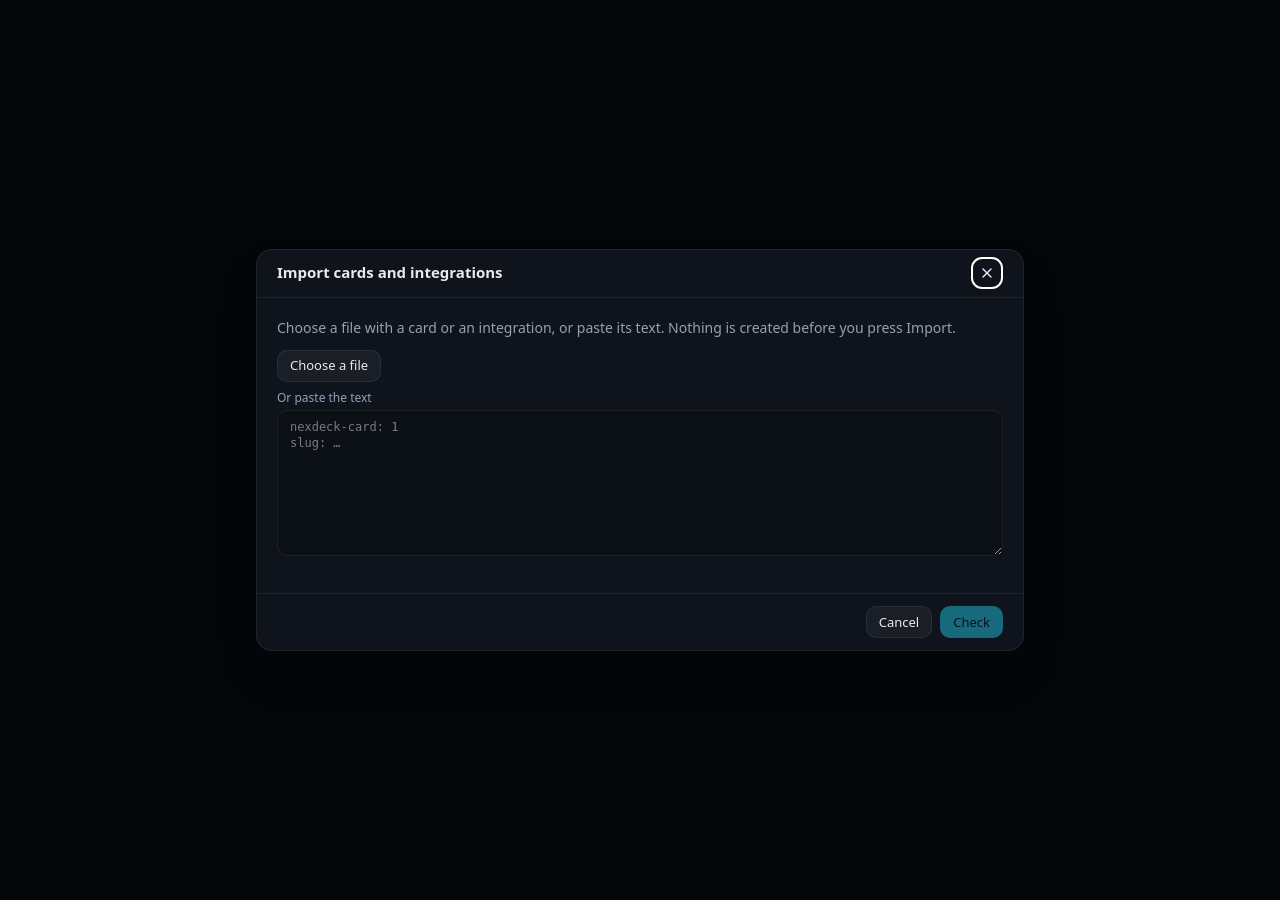
Test case: an integration that is not there › karten12 ac4: names the kinds that are neither in the file nor here
Click the text box labelled "Or paste the text" at (640, 483), box [277,410,1003,556]
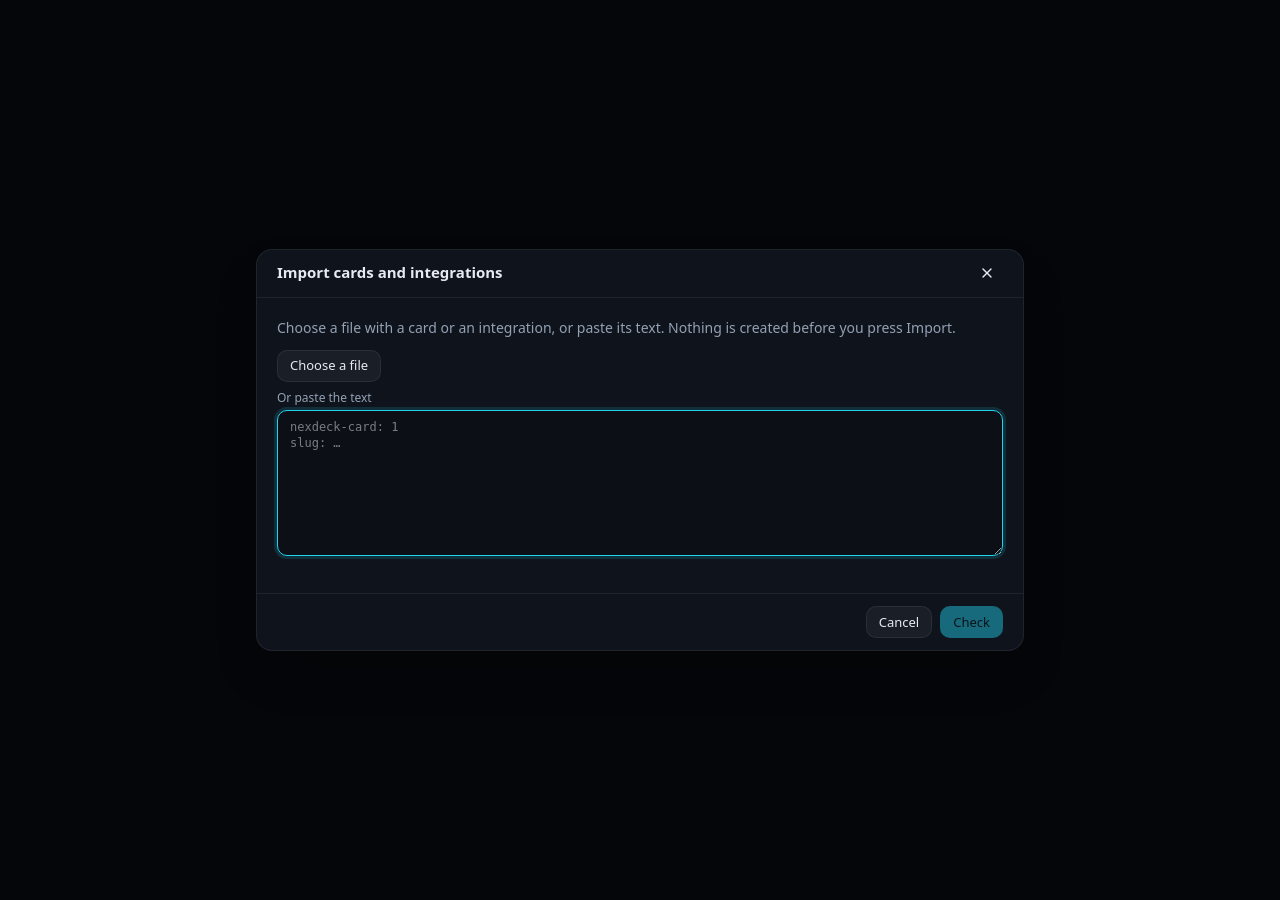
Type keys "nexdeck-card: 1 slug: queue name: Queue requires: [custom:memos] form: value value: {path: total, label: Waiting} demo:   main: {total: 3} "
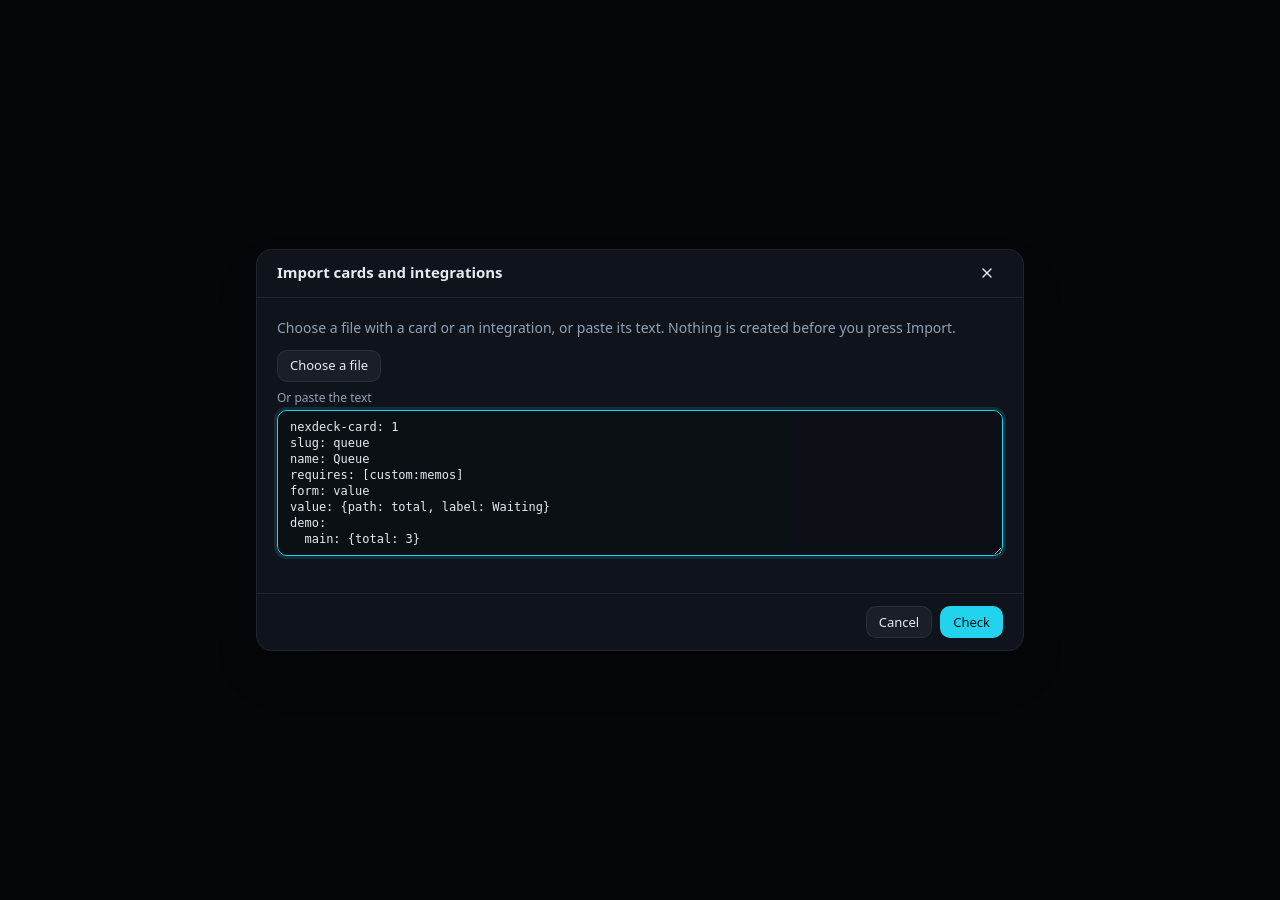
Click the button "Check" at (972, 622), box [940,606,1003,638]
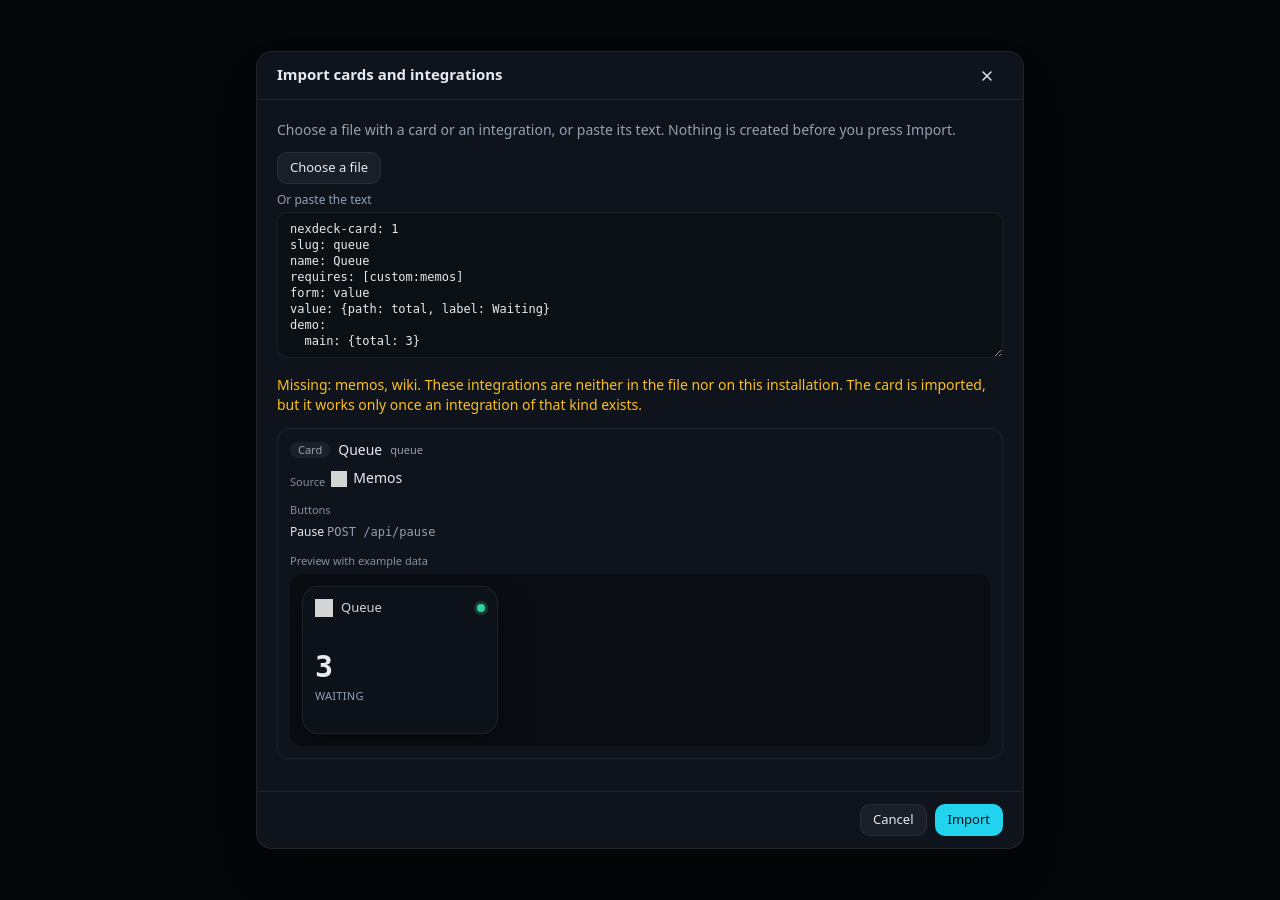
Now the button "Import" is enabled, box [934,804,1003,836]
Now the text with test id "import-missing" shows "Missing: memos, wiki.", box [277,376,986,415]
